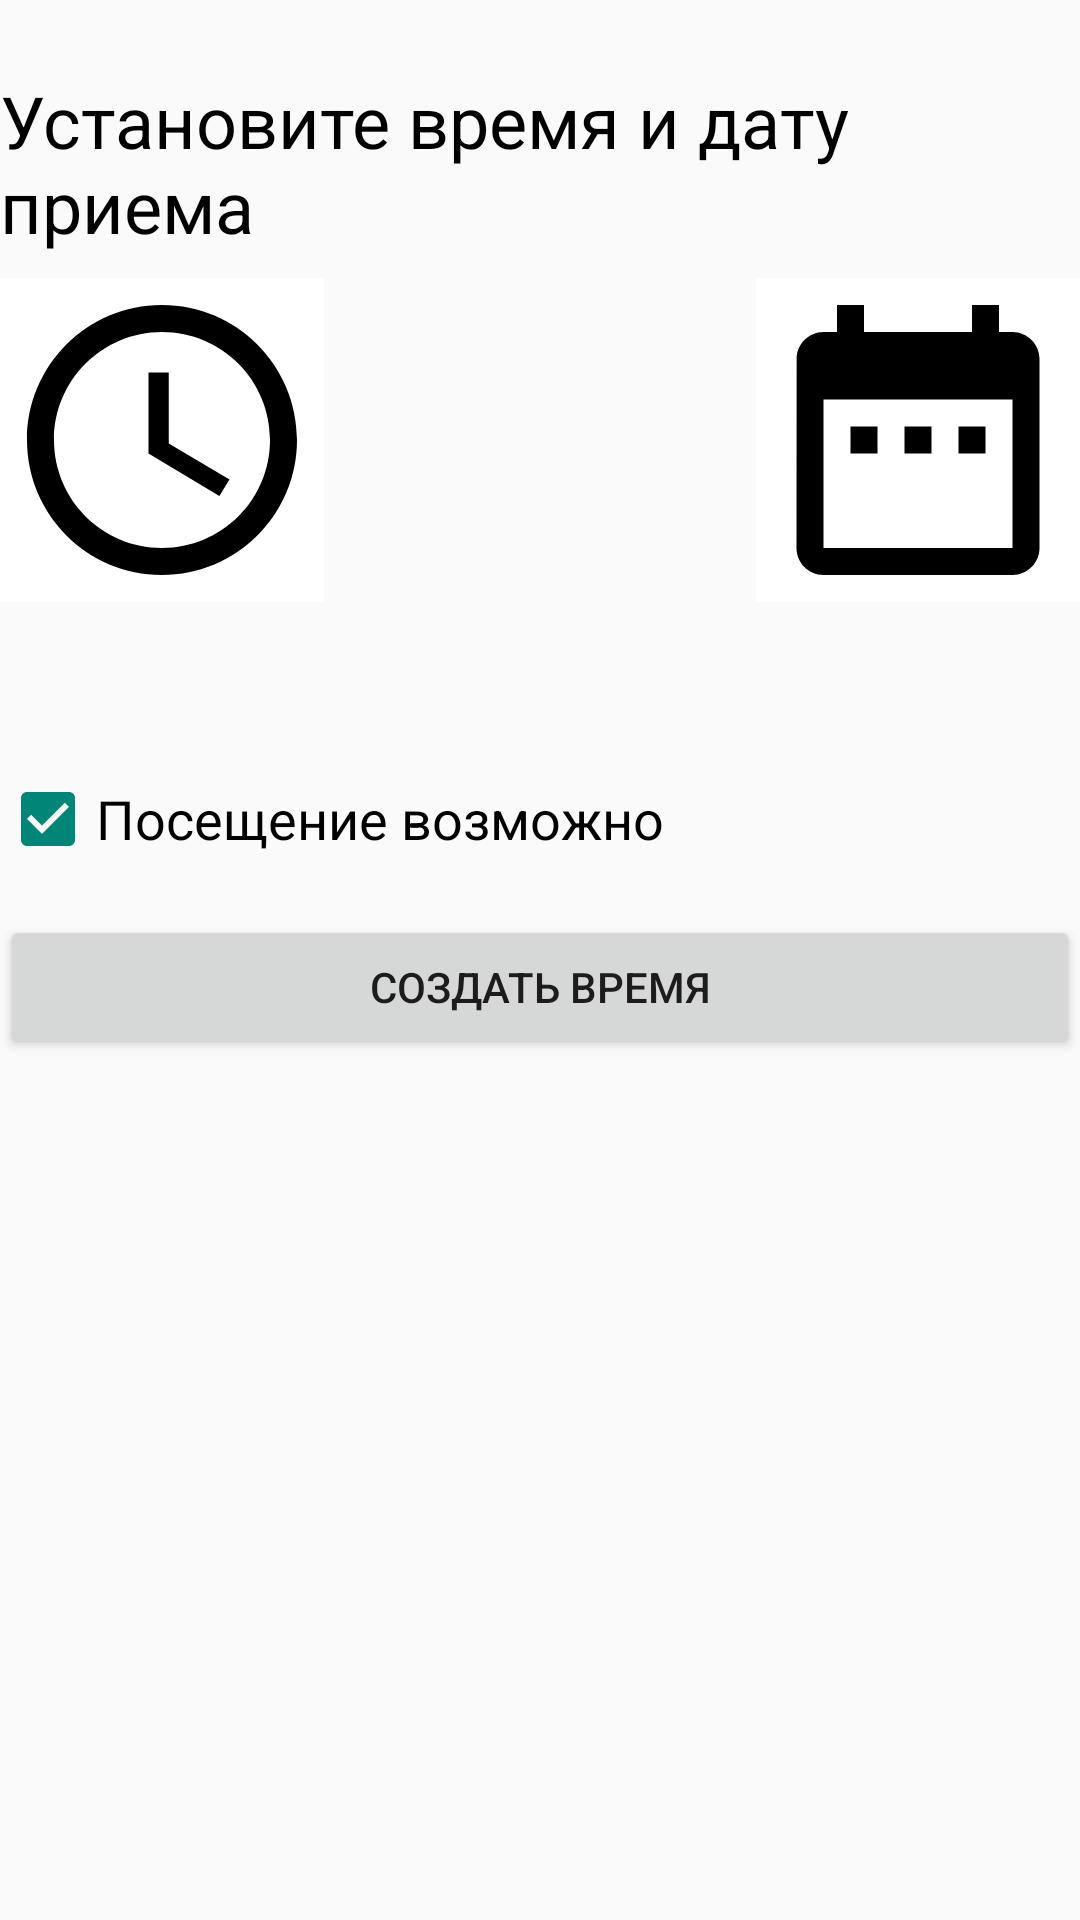

Icon bounding boxes for this 1080*1920 phone screenshot, format (x1, y1, x2, y2):
calendar: (796, 305, 1040, 575)
timepicker: (26, 305, 297, 575)
